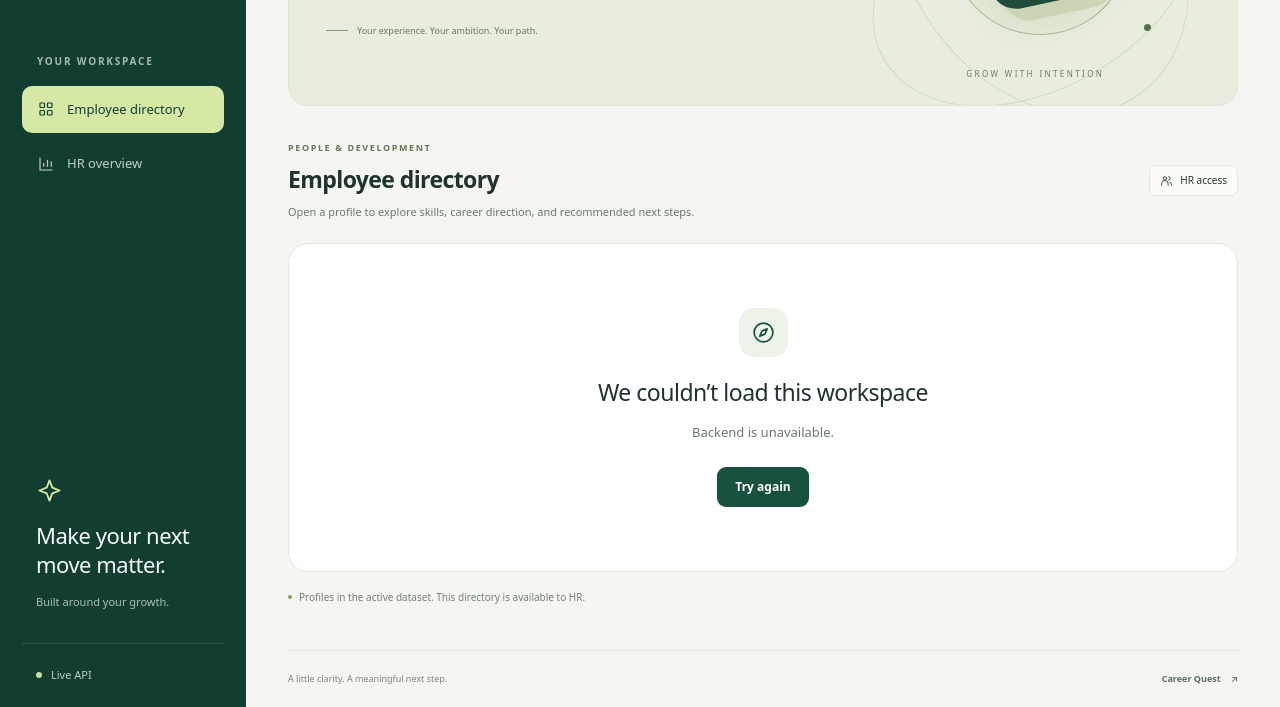
Test: identity-aware navigation › shows backend-unavailable errors and retries the real directory request
(page scrolled)
Expected: the text "Backend is unavailable." is shown, [692,423,834,441]
Click the button "Try again": [763, 487] box [717,467,809,507]
(page scrolled)
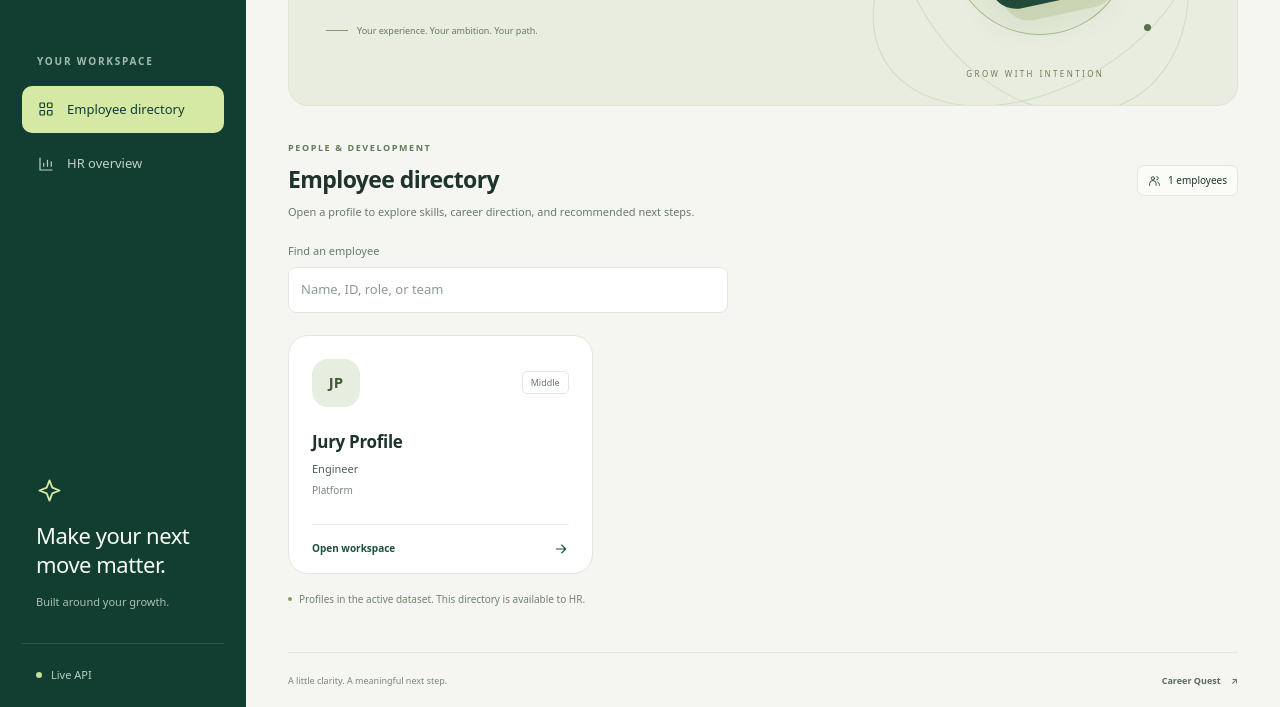
Now the heading "Jury Profile" is shown, box [312,430,403,452]
